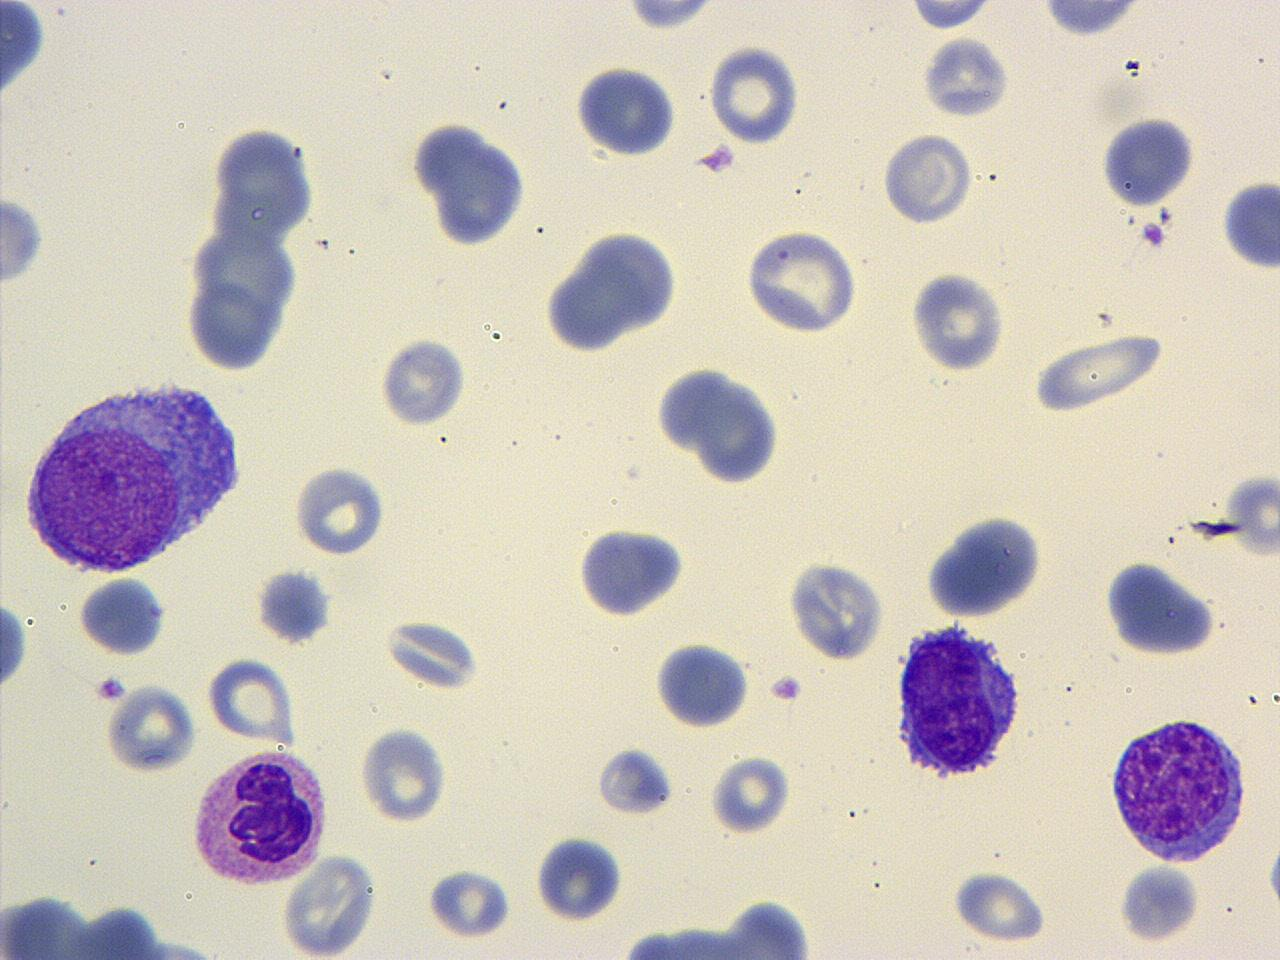Platelets: (784, 552, 890, 664), (906, 265, 1008, 374), (289, 459, 390, 558), (376, 329, 473, 429), (101, 684, 198, 774), (533, 832, 626, 924), (946, 868, 1050, 944), (918, 36, 1012, 120), (1115, 860, 1201, 944), (706, 755, 794, 835), (424, 865, 513, 941), (255, 563, 333, 647), (594, 746, 678, 819), (0, 189, 49, 288), (1224, 470, 1280, 556), (0, 591, 31, 699), (693, 142, 737, 177), (1188, 514, 1246, 539), (768, 672, 806, 704), (96, 674, 130, 704), (1265, 844, 1280, 906), (1140, 218, 1168, 248), (1155, 205, 1171, 226)
RBC: (1030, 325, 1168, 419), (742, 224, 860, 335), (784, 551, 888, 665), (908, 266, 1014, 375), (280, 850, 380, 956), (706, 40, 803, 147), (377, 324, 474, 432), (290, 459, 388, 559), (878, 129, 976, 226), (356, 724, 449, 824), (206, 654, 302, 744), (105, 682, 200, 772), (946, 866, 1051, 944), (920, 32, 1010, 121), (707, 752, 795, 836), (1222, 469, 1280, 560), (618, 0, 727, 34), (904, 0, 1000, 32)
WBC: (12, 362, 255, 578), (168, 106, 342, 384), (1104, 710, 1252, 868), (187, 740, 336, 892), (894, 617, 1030, 783), (540, 220, 684, 357), (200, 112, 328, 259), (653, 355, 790, 489), (406, 115, 534, 252), (0, 889, 231, 960), (921, 505, 1049, 622), (602, 899, 833, 960), (786, 548, 892, 666), (1101, 554, 1219, 659), (574, 518, 692, 620), (572, 59, 683, 160), (280, 852, 383, 958), (1096, 111, 1202, 212), (651, 636, 755, 731), (534, 834, 630, 928), (74, 572, 173, 659), (1, 0, 54, 160), (1217, 170, 1279, 274), (1030, 0, 1160, 39), (612, 0, 732, 33), (1, 581, 30, 707), (899, 0, 1009, 32)
